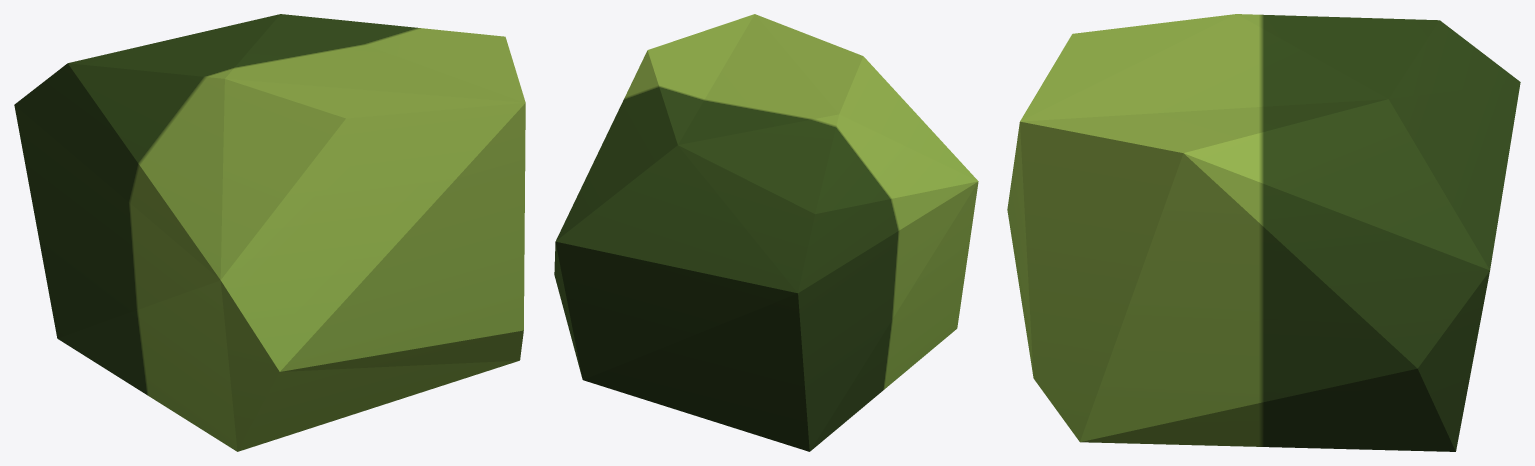
Rendered from Rock_15.fbx.
3 views of the same model, side by side, from view 1: azimuth 30°, elevation 25°; view 2: azimuth 150°, elevation 25°; view 3: azimuth 270°, elevation 25° (orthographic). The views are drawn at different scales.
Parts seen in each view (by area): view 1: Rock_15; view 2: Rock_15; view 3: Rock_15.
Boxes of the visible parts, box(x1,y1,x2,y2) form: Rock_15: box(14, 14, 525, 451); Rock_15: box(554, 14, 978, 451); Rock_15: box(1007, 14, 1520, 451).
Size of the model in its own units: 0.9588 by 0.8482 by 1.12.
